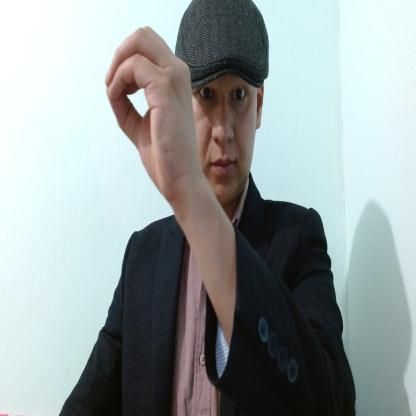O: (104, 25, 201, 202)
